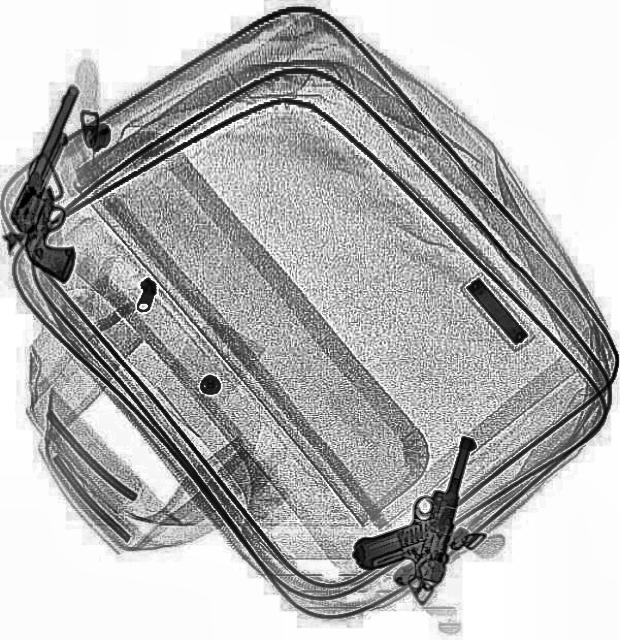Gun: (1, 83, 142, 269), (346, 416, 480, 594)
